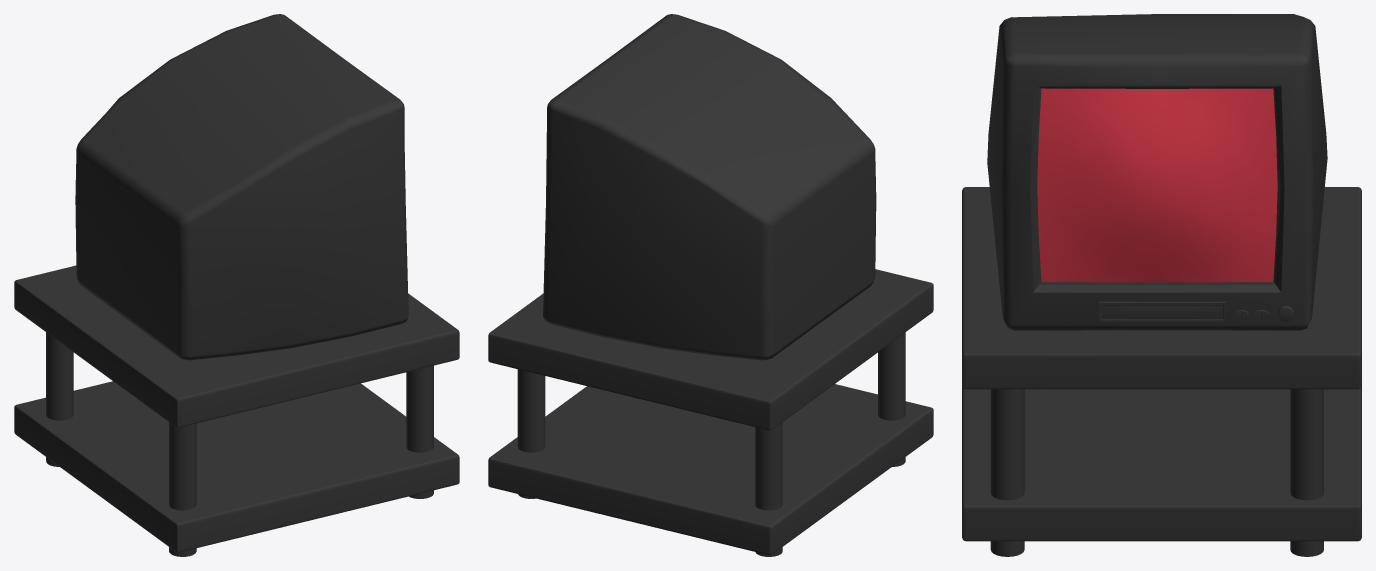
File: Television.fbx
3 views of the same model, side by side, from view 1: azimuth 30°, elevation 25°; view 2: azimuth 150°, elevation 25°; view 3: azimuth 270°, elevation 25° (orthographic). The views are drawn at different scales.
Visible parts, largest first — view 1: Television; view 2: Television; view 3: Television.
Part boxes in pixels (box(x1,y1,x2,y2)): Television: box(14, 14, 459, 556); Television: box(488, 14, 933, 556); Television: box(962, 14, 1361, 556).
Bounding box in the file's own units: 520 × 692 × 520.
